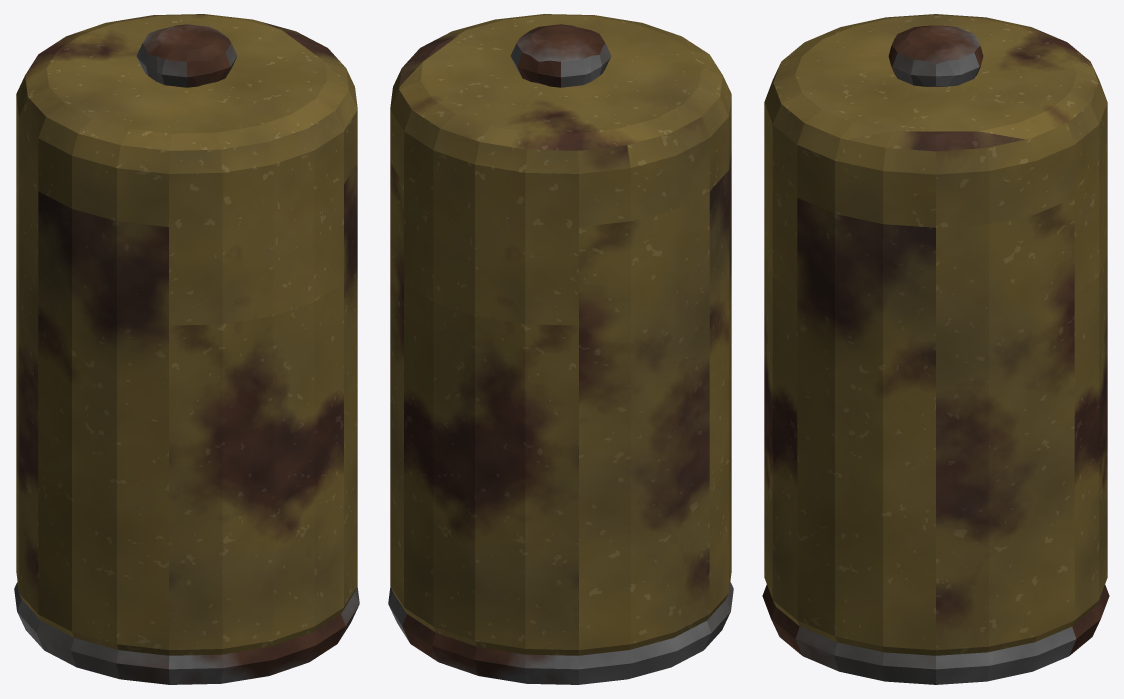
File: G02_battery_d_cell.glb
3 views of the same model, side by side, from view 1: azimuth 30°, elevation 25°; view 2: azimuth 150°, elevation 25°; view 3: azimuth 270°, elevation 25° (orthographic).
Visible parts, largest first — view 1: G02_battery_d_cell; view 2: G02_battery_d_cell; view 3: G02_battery_d_cell.
Boxes of the visible parts, bbox=[...] form: G02_battery_d_cell: bbox=[14, 14, 359, 684]; G02_battery_d_cell: bbox=[388, 14, 733, 684]; G02_battery_d_cell: bbox=[762, 14, 1109, 684].
Bounding box in the file's own units: 0.0538 × 0.1 × 0.0538.
2 materials, 2 textured.
